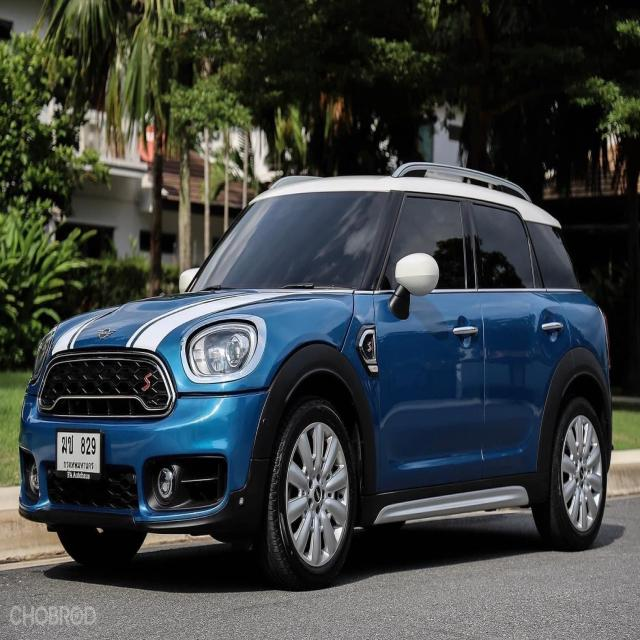license_plate: (54, 428, 103, 480)
